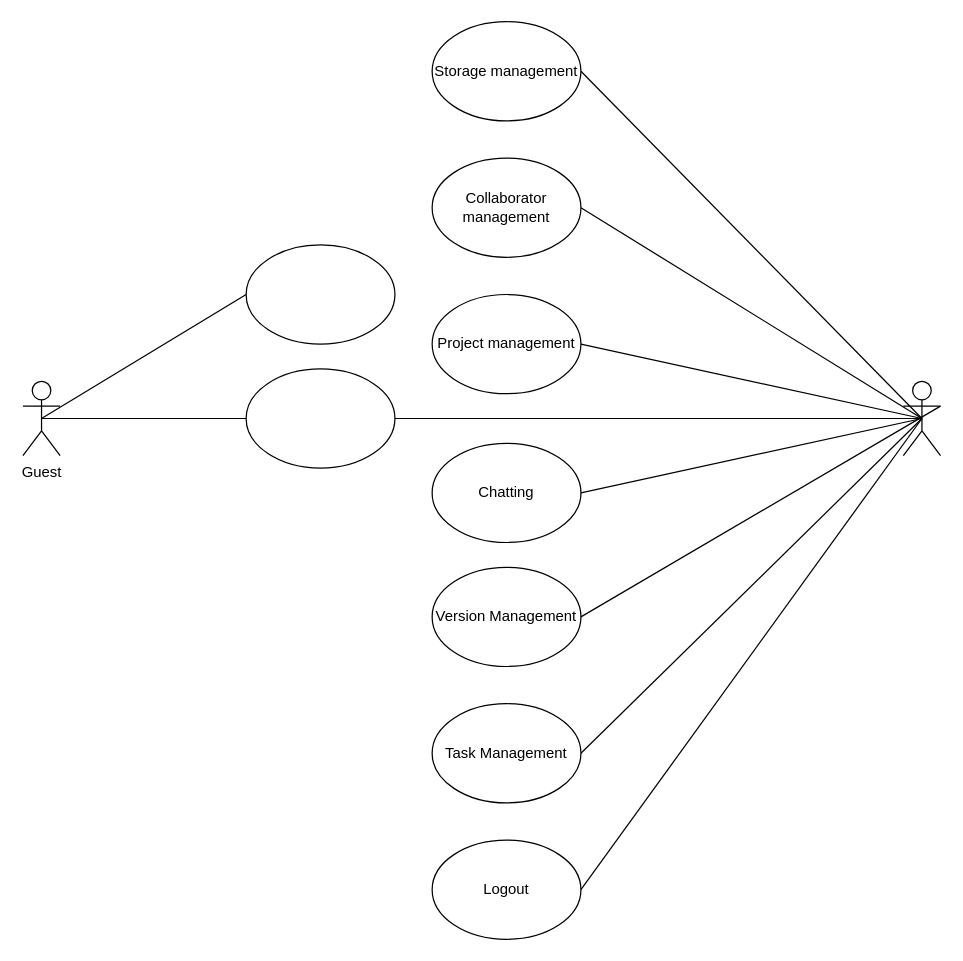
The diagram is 963 pixels wide and 961 high, and some of its shapes have lost their labels. The shapes that lost their labels are listed below. From the top down, each one's centre as x and y in pixels, then its label:
At point 320,294: "Register".
At point 320,418: "Login".
At point 921,418: "User".
